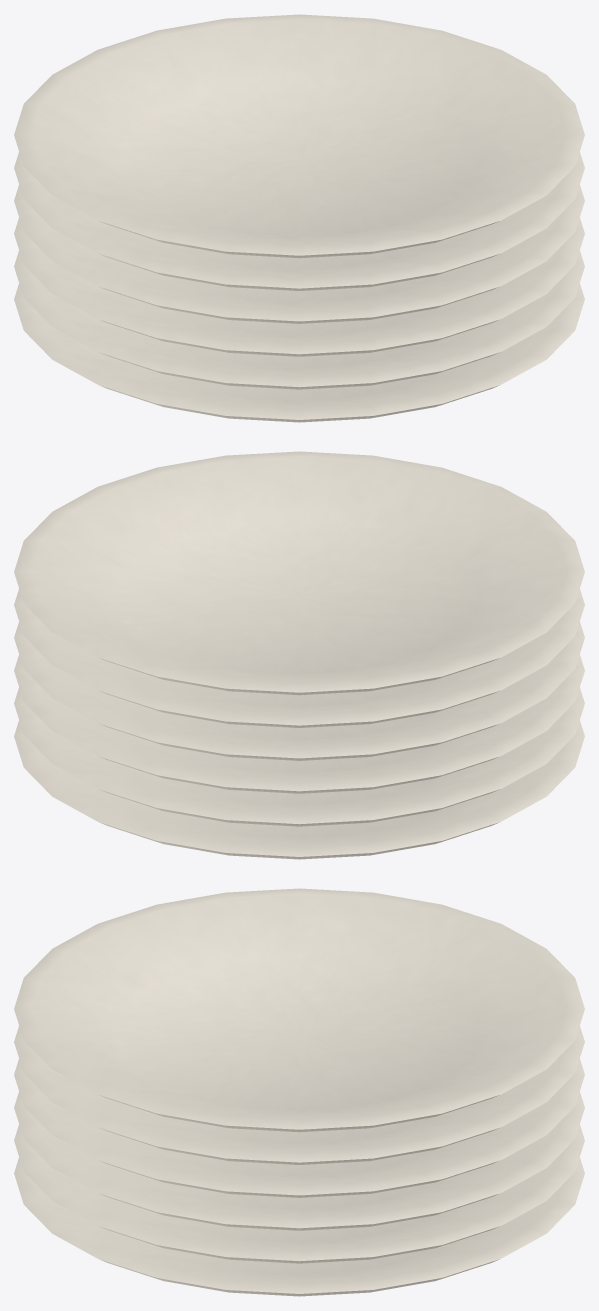
The model's file is SM_Plate_Stack.fbx.
The picture shows the model from 3 angles, top to bottom: view 1: azimuth 30°, elevation 25°; view 2: azimuth 150°, elevation 25°; view 3: azimuth 270°, elevation 25°; orthographic projection.
Visible parts, largest first — view 1: SM_Plate_Stack; view 2: SM_Plate_Stack; view 3: SM_Plate_Stack.
Part boxes in pixels (x1=…): SM_Plate_Stack: x1=14, y1=14, x2=584, y2=422; SM_Plate_Stack: x1=14, y1=451, x2=584, y2=859; SM_Plate_Stack: x1=14, y1=888, x2=584, y2=1296.
Size of what is drawn, in the model's own units: 0.252 by 0.103 by 0.252.
1 material, 1 textured.
